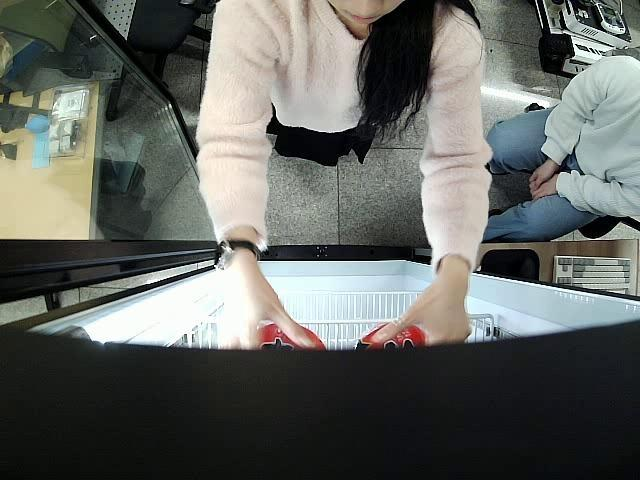01_ShinRamen_L: (256, 322, 327, 353), (351, 322, 424, 351)
